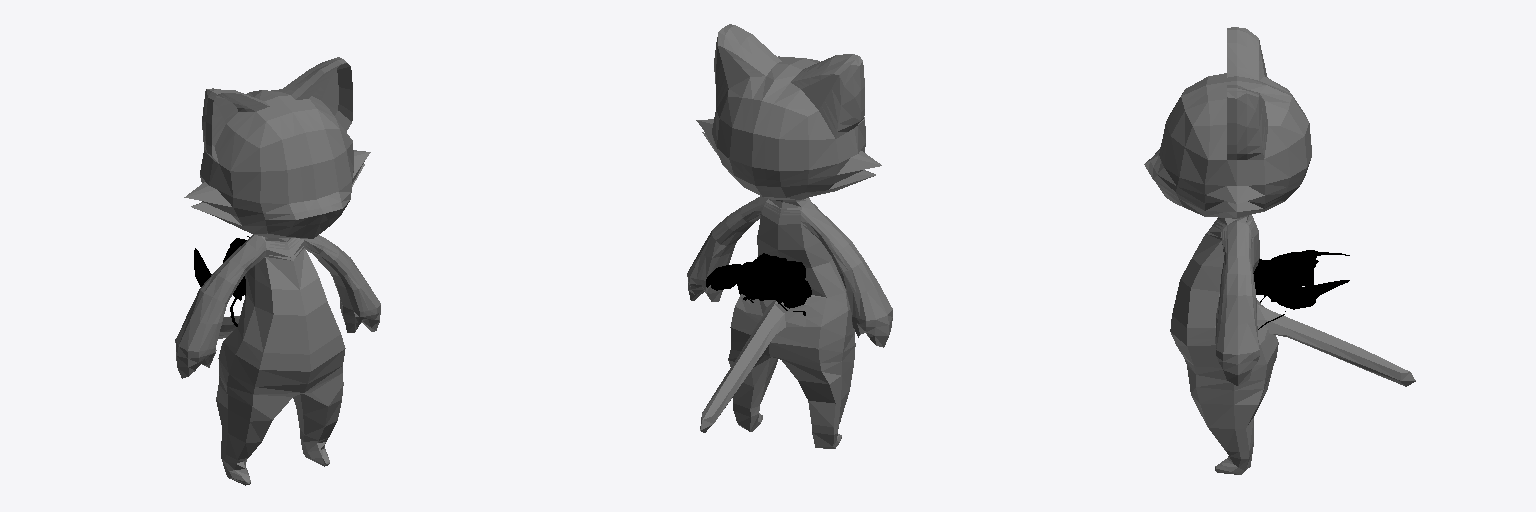
The model's file is bad_old.obj.
The picture shows the model from 3 angles: view 1: azimuth 30°, elevation 25°; view 2: azimuth 150°, elevation 25°; view 3: azimuth 270°, elevation 25°; orthographic projection.
Parts seen in each view (by area): view 1: mao_pCube3, pasted__pPlane1; view 2: mao_pCube3, pasted__pPlane1; view 3: mao_pCube3, pasted__pPlane1.
Boxes of the visible parts, <box> form: mao_pCube3: <box>175,57,380,485</box>; pasted__pPlane1: <box>194,236,249,326</box>; mao_pCube3: <box>687,24,892,448</box>; pasted__pPlane1: <box>706,253,811,315</box>; mao_pCube3: <box>1144,27,1415,474</box>; pasted__pPlane1: <box>1253,250,1349,329</box>.
Size of the model in its own units: 3.18 by 5.97 by 3.73.